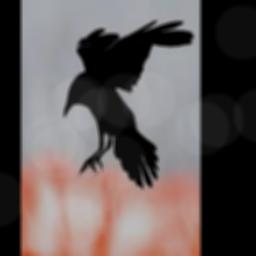Crow: (63, 18, 194, 188)
